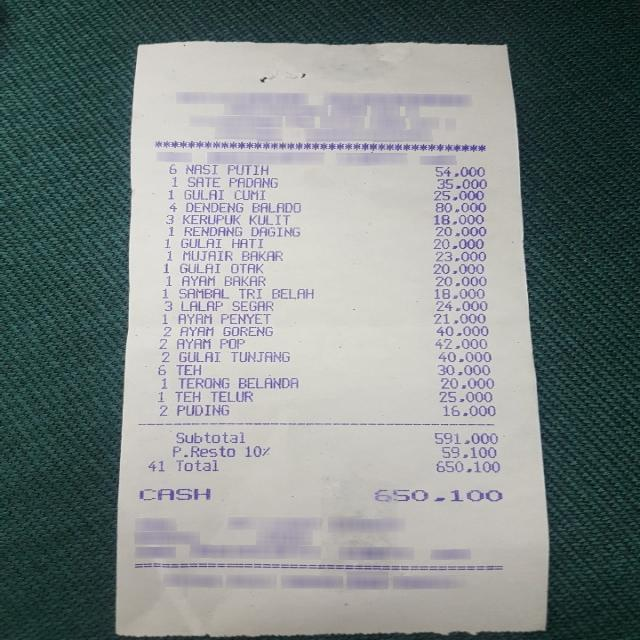kertas: (116, 42, 551, 637)
